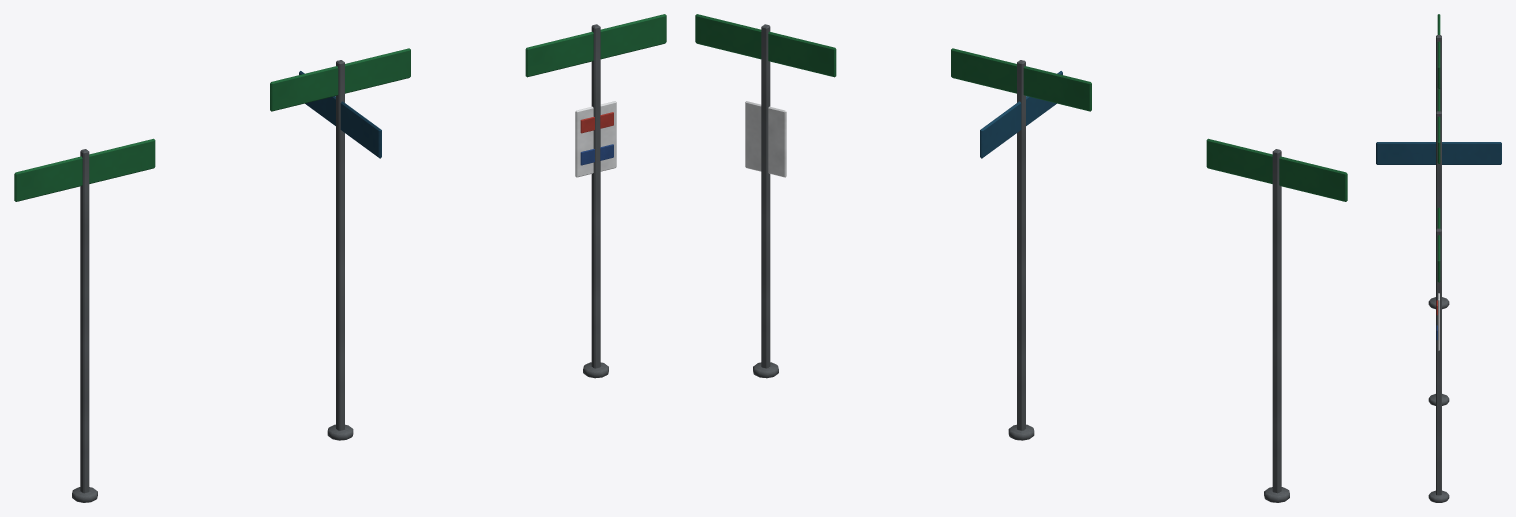
Rendered from sign_street.glb.
The picture shows the model from 3 angles, left to right: view 1: azimuth 30°, elevation 25°; view 2: azimuth 150°, elevation 25°; view 3: azimuth 270°, elevation 25°; orthographic projection. The views are drawn at different scales.
Visible parts, largest first — view 1: sign_street_v3, sign_street_v2, sign_street_v1; view 2: sign_street_v3, sign_street_v2, sign_street_v1; view 3: sign_street_v2, sign_street_v3, sign_street_v1.
Part boxes in pixels (x1,y1,x2,y2): sign_street_v3: [525, 14, 666, 378]; sign_street_v2: [270, 48, 410, 440]; sign_street_v1: [14, 138, 155, 502]; sign_street_v3: [695, 14, 836, 378]; sign_street_v2: [951, 48, 1091, 440]; sign_street_v1: [1206, 138, 1347, 502]; sign_street_v2: [1376, 89, 1501, 405]; sign_street_v3: [1428, 207, 1449, 502]; sign_street_v1: [1428, 14, 1449, 309].
Bounding box in the file's own units: 5.1 × 2.8 × 1.1.
Materials: 2 (2 with a texture image).
